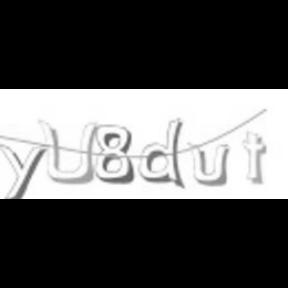8: (95, 124, 135, 182)
U: (35, 117, 97, 185)
d: (137, 116, 185, 188)
t: (242, 132, 266, 186)
u: (186, 141, 230, 187)
y: (0, 144, 48, 199)
